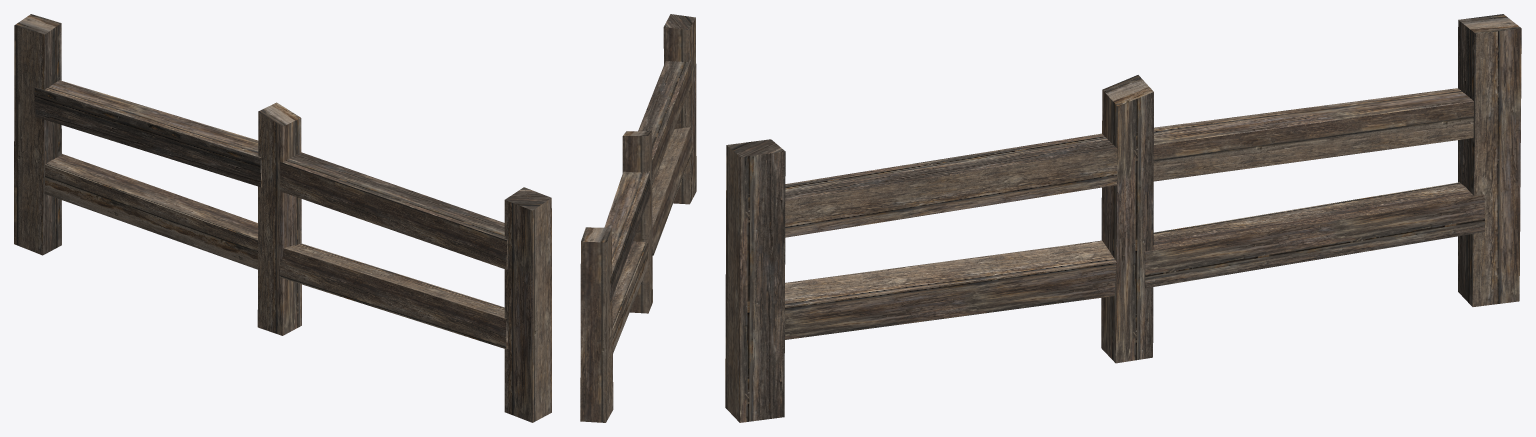
The model's file is wood fence.glb.
3 views of the same model, side by side, from view 1: azimuth 30°, elevation 25°; view 2: azimuth 150°, elevation 25°; view 3: azimuth 270°, elevation 25° (orthographic). The views are drawn at different scales.
Visible parts, largest first — view 1: Object_2; view 2: Object_2; view 3: Object_2.
Part boxes in pixels (<box>): Object_2: <box>14,14,551,422</box>; Object_2: <box>580,14,696,422</box>; Object_2: <box>725,14,1521,422</box>.
Bounding box in the file's own units: 0.023 × 0.0211 × 0.0556.
1 material, 1 textured.
